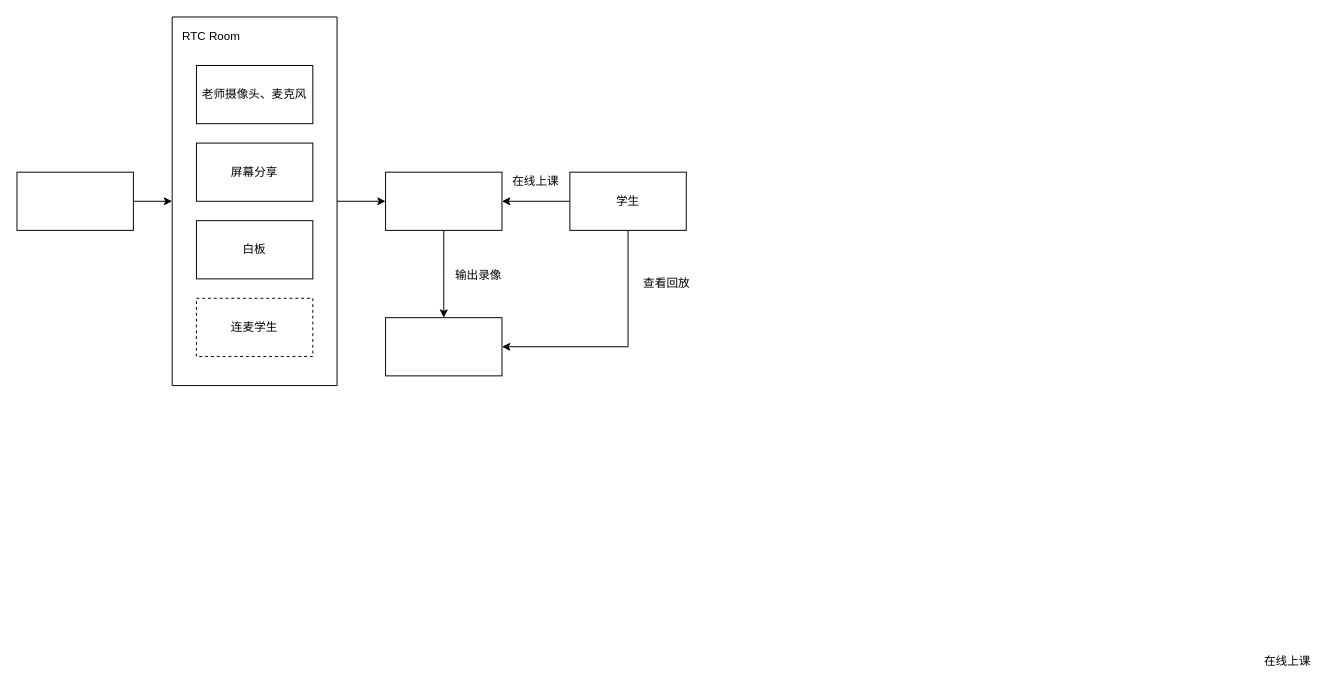
The diagram is 1334 pixels wide and 694 high, and some of its shapes have lost their labels. Each missing label, with the centre of its shape:
云点播 录像存放: (x=443, y=346)
云直播 混流合成: (x=443, y=200)
老师点击上课: (x=74, y=200)
